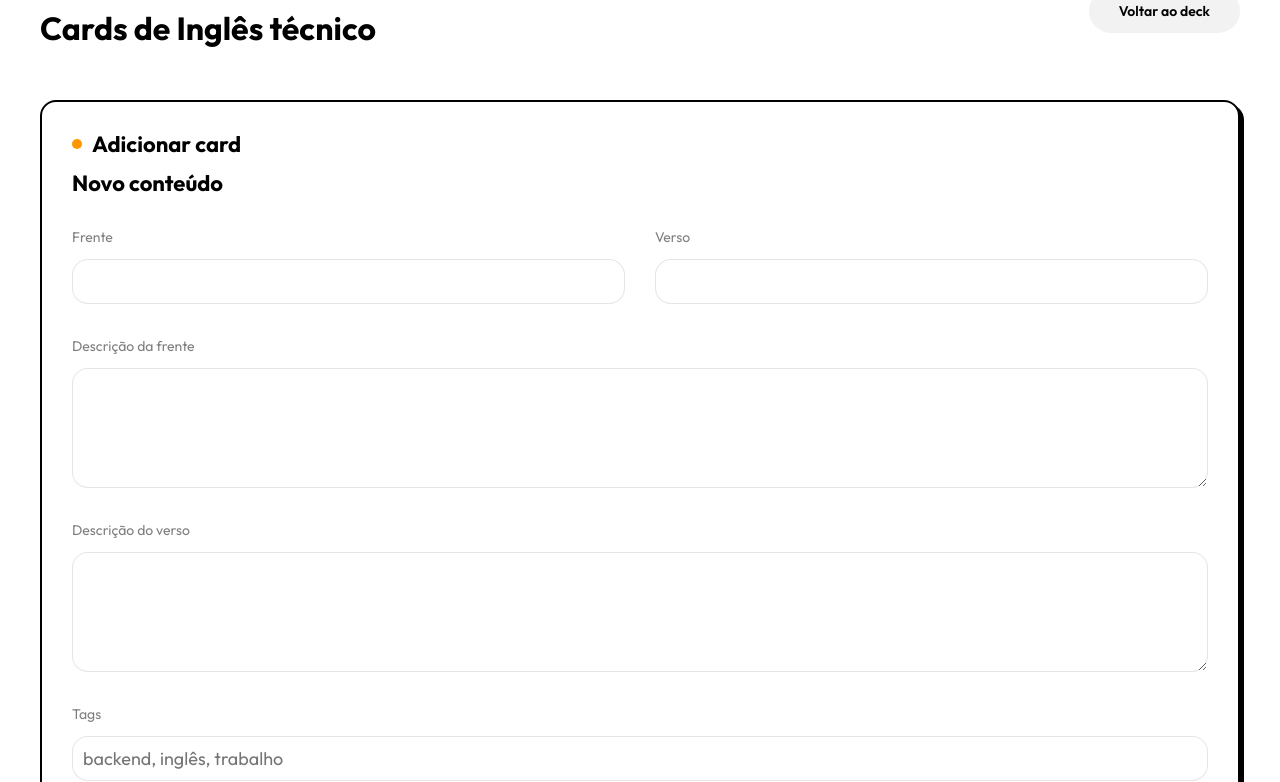
Test case: cards do deck › cria um card com os nomes novos e o associa ao deck
expect the heading "Cards de Inglês técnico" is shown: met, box left=40, top=16, right=376, bottom=40
Type "database" into the field labelled "Frente" at (348, 282), box left=72, top=259, right=625, bottom=304
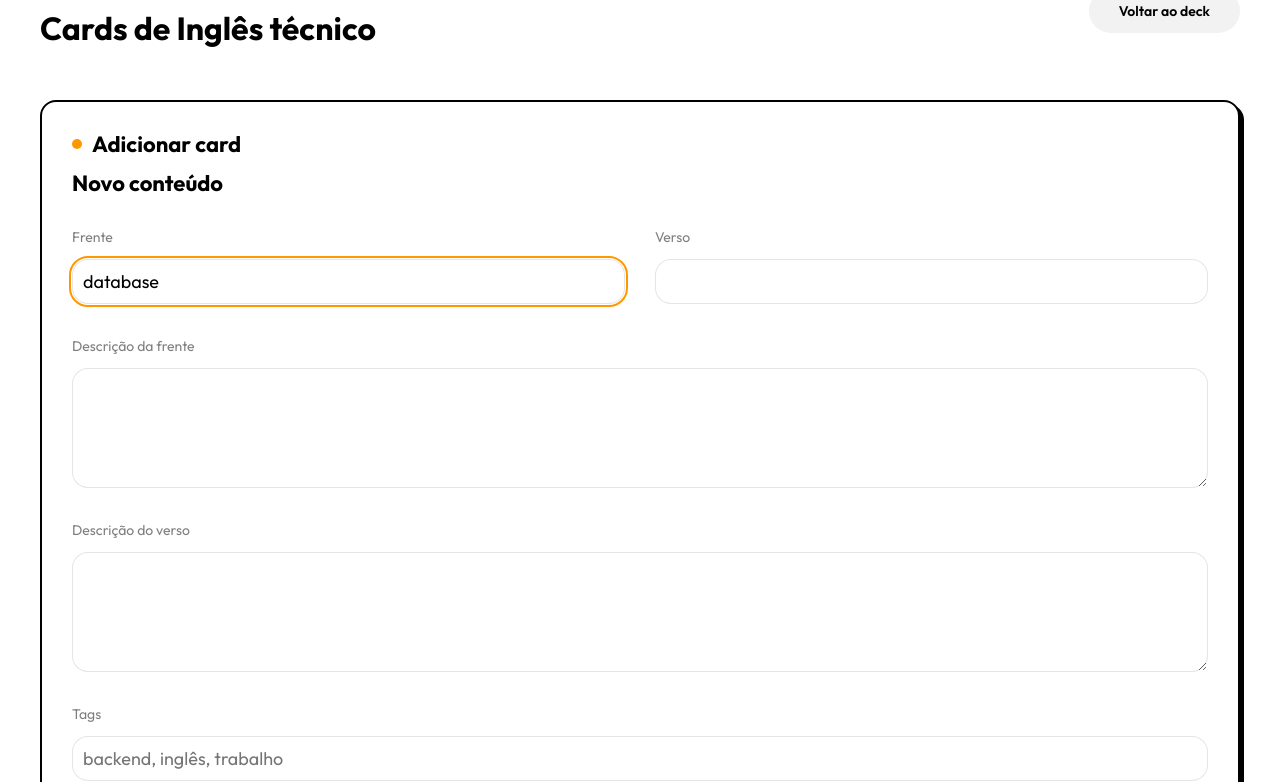
Type "banco de dados" into the field labelled "Verso" at (932, 282), box left=655, top=259, right=1208, bottom=304
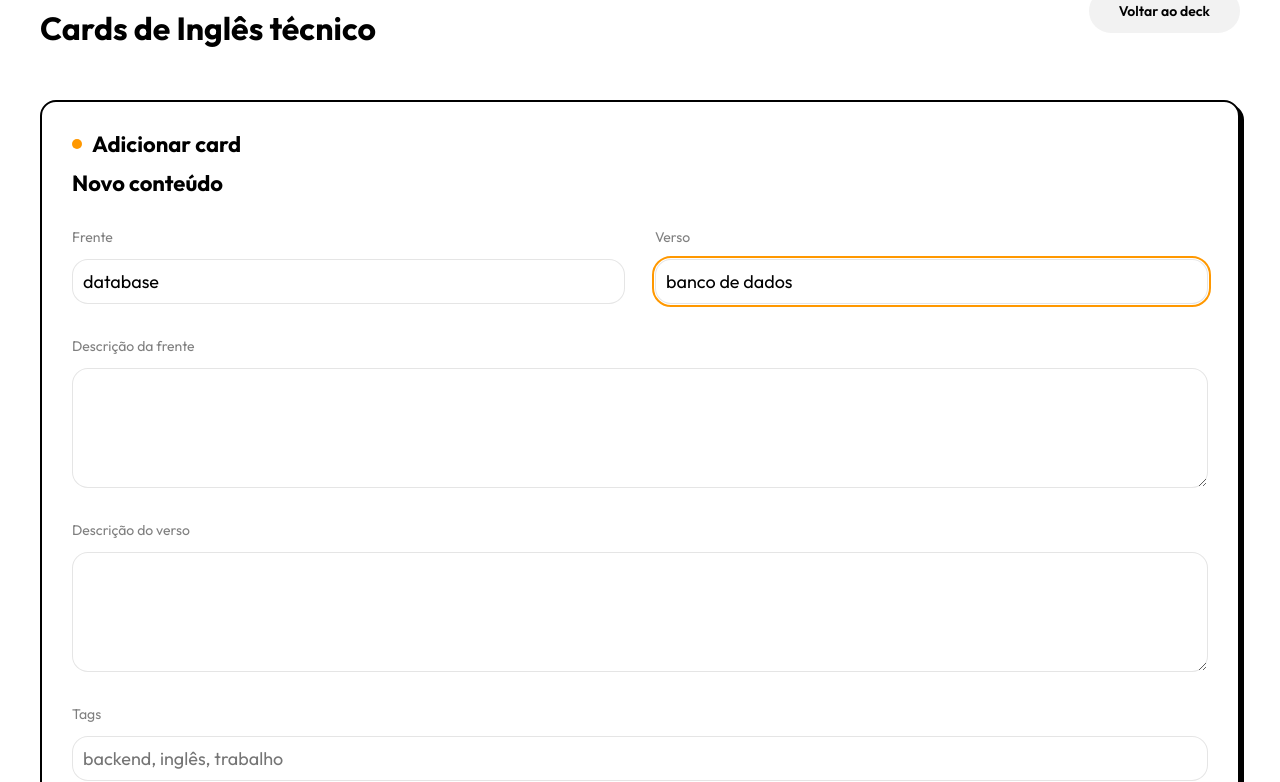
Type "The database is available." into the text box labelled "Descrição da frente" at (640, 428), box left=72, top=368, right=1208, bottom=488
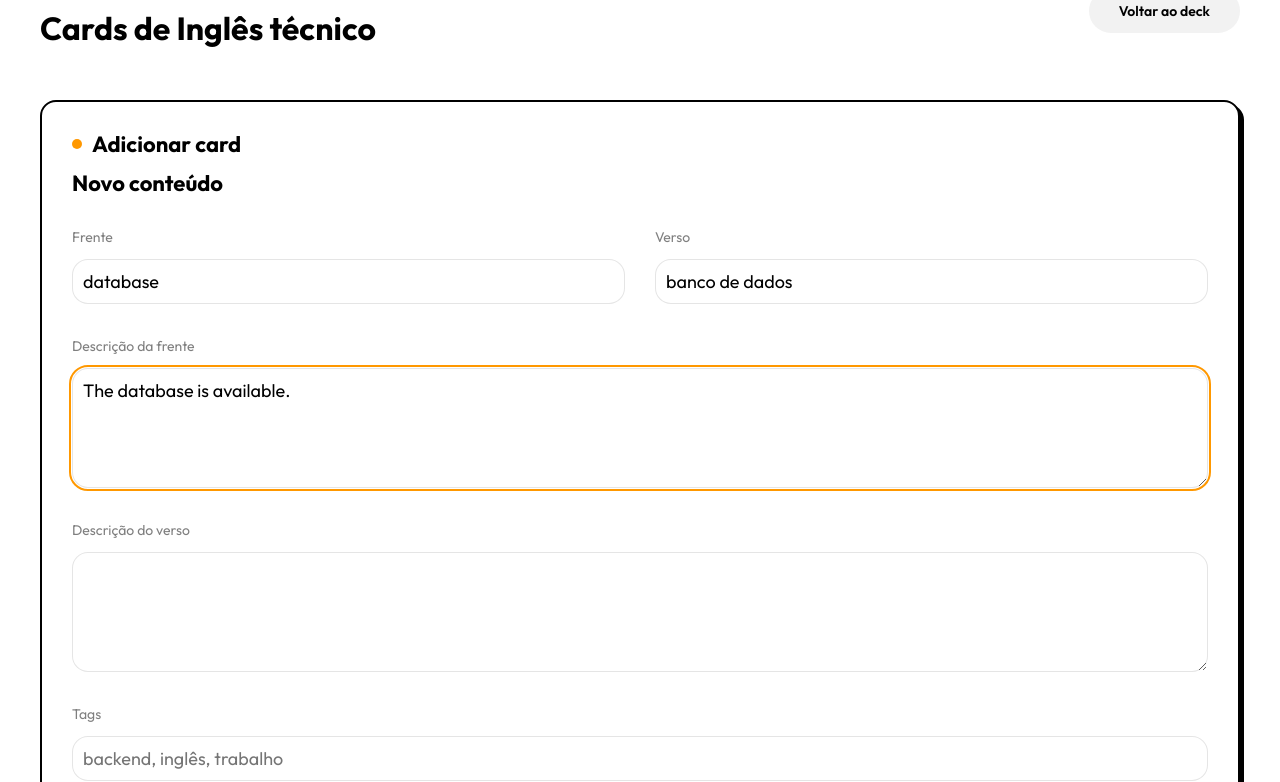
Type "O banco de dados está disponível." into the text box labelled "Descrição do verso" at (640, 612), box left=72, top=552, right=1208, bottom=672
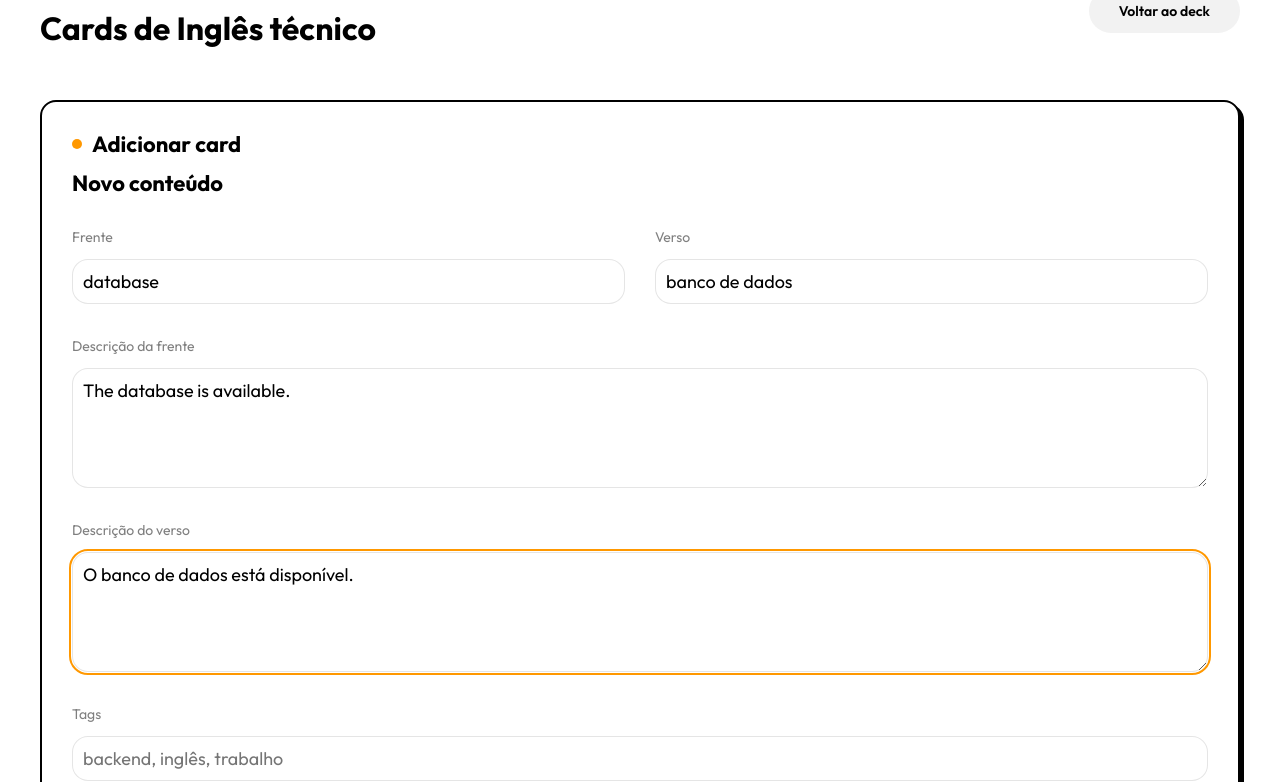
Type "backend, dados" into the field labelled "Tags" at (640, 758), box left=72, top=736, right=1208, bottom=781
(page scrolled)
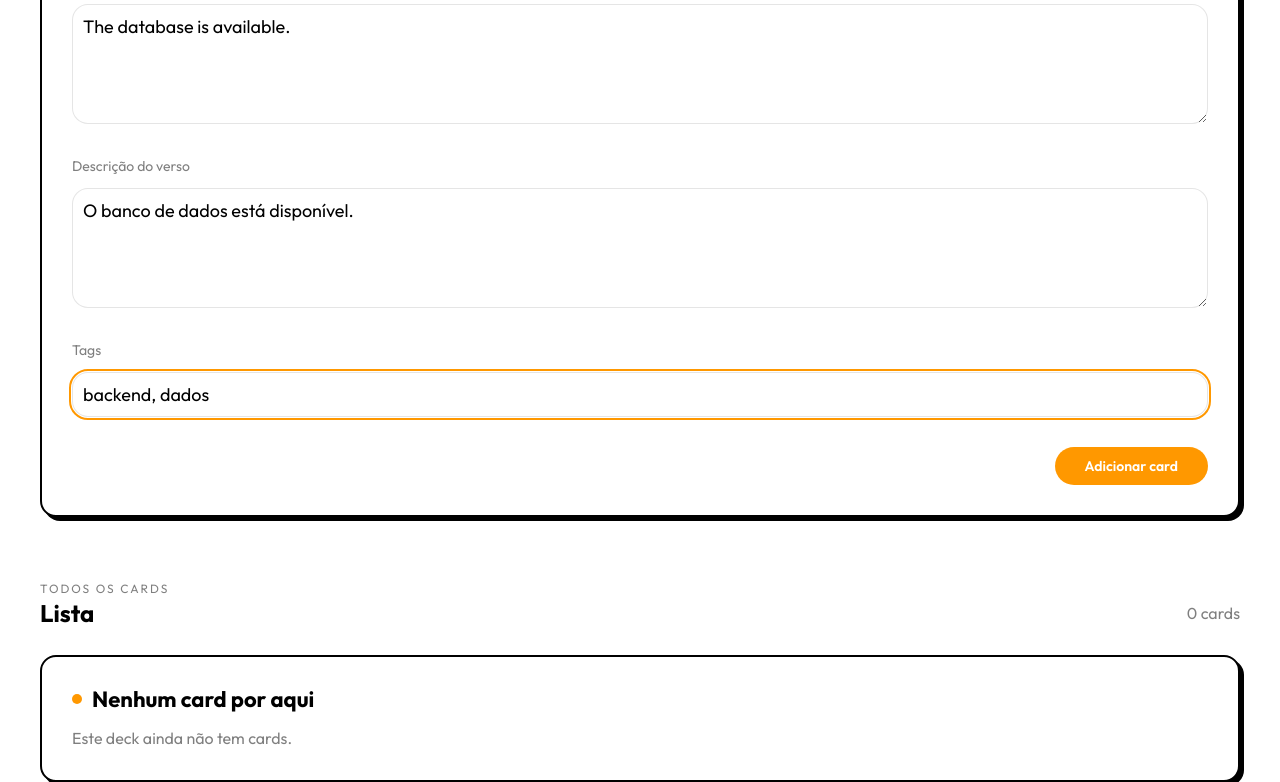
Click the button "Adicionar card" at (1131, 466), box left=1055, top=447, right=1208, bottom=485
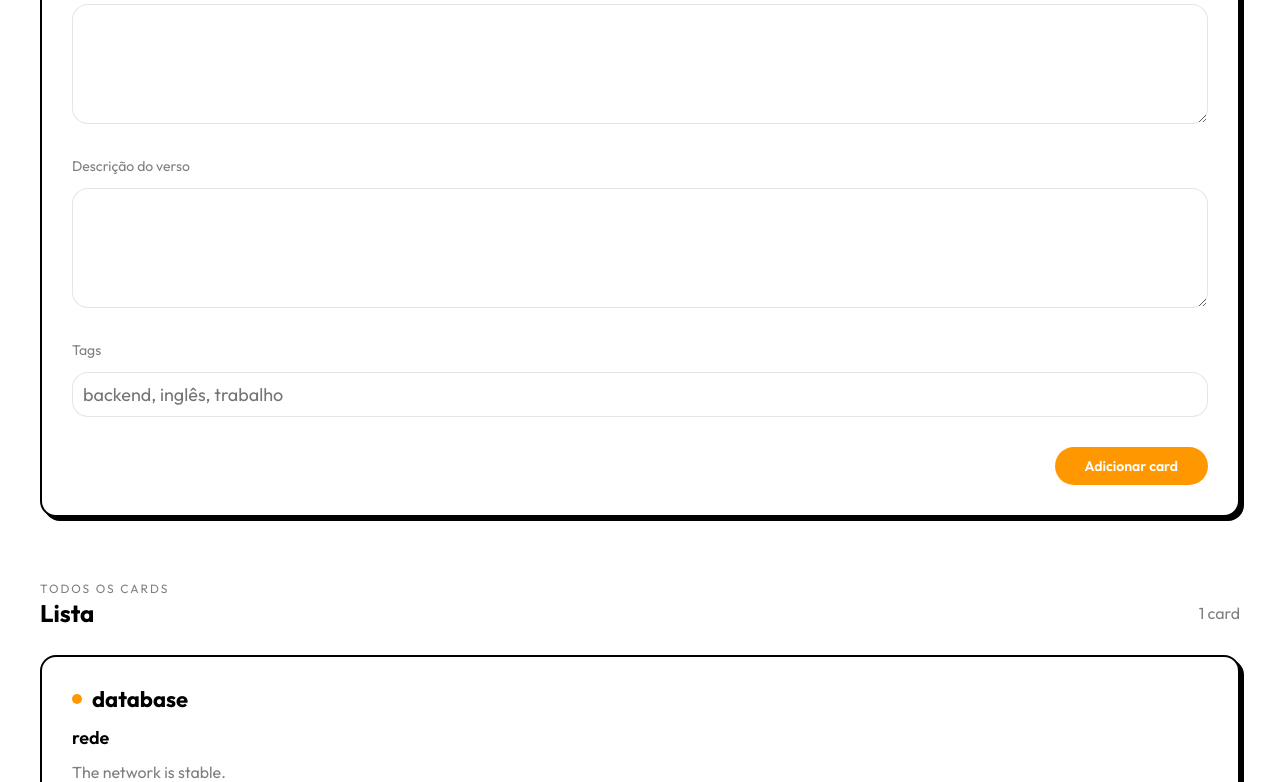
expect the heading "database" is shown: met, box left=92, top=685, right=188, bottom=713
